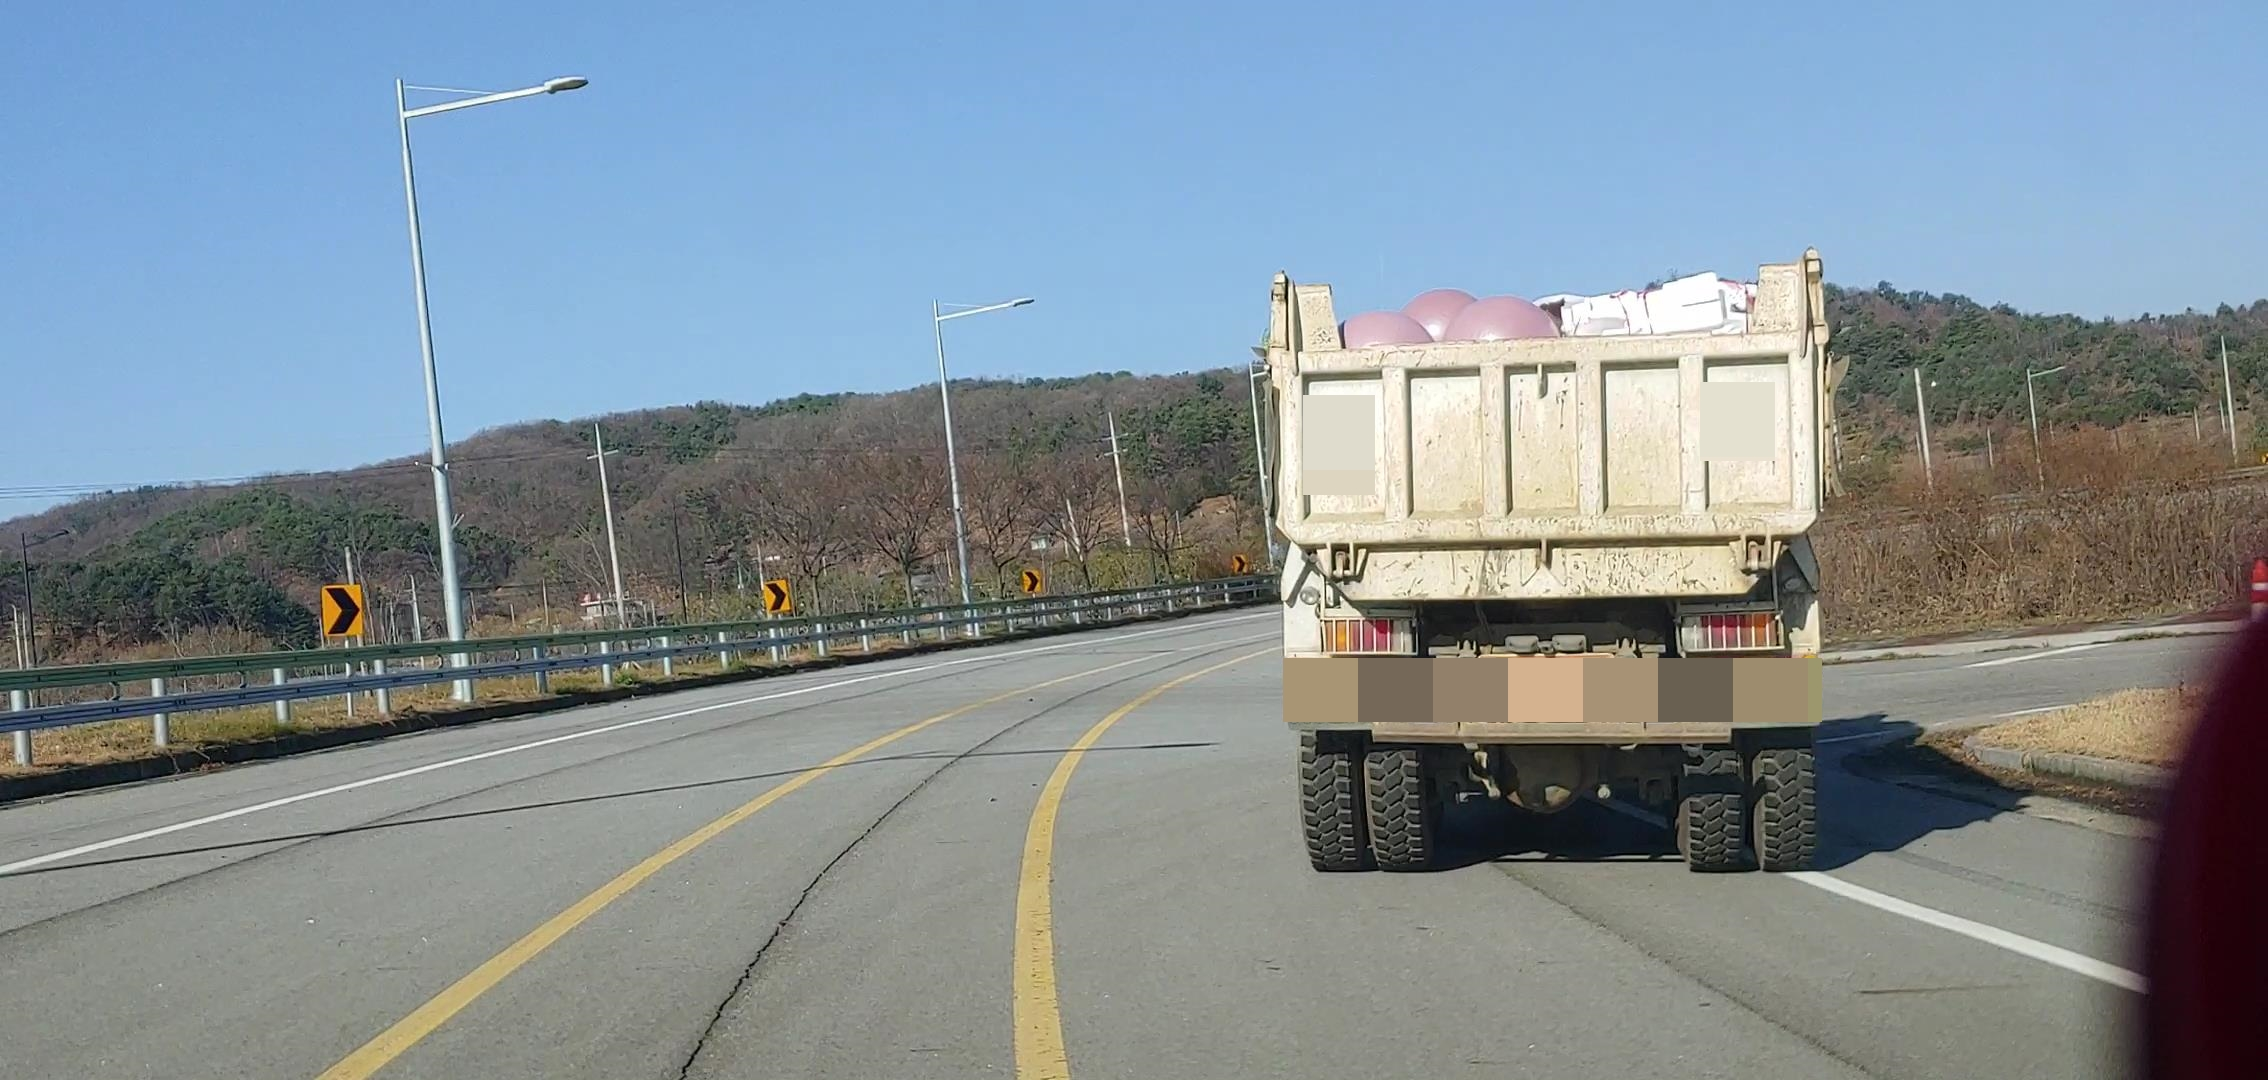불법차량: (1250, 250, 1850, 872)
